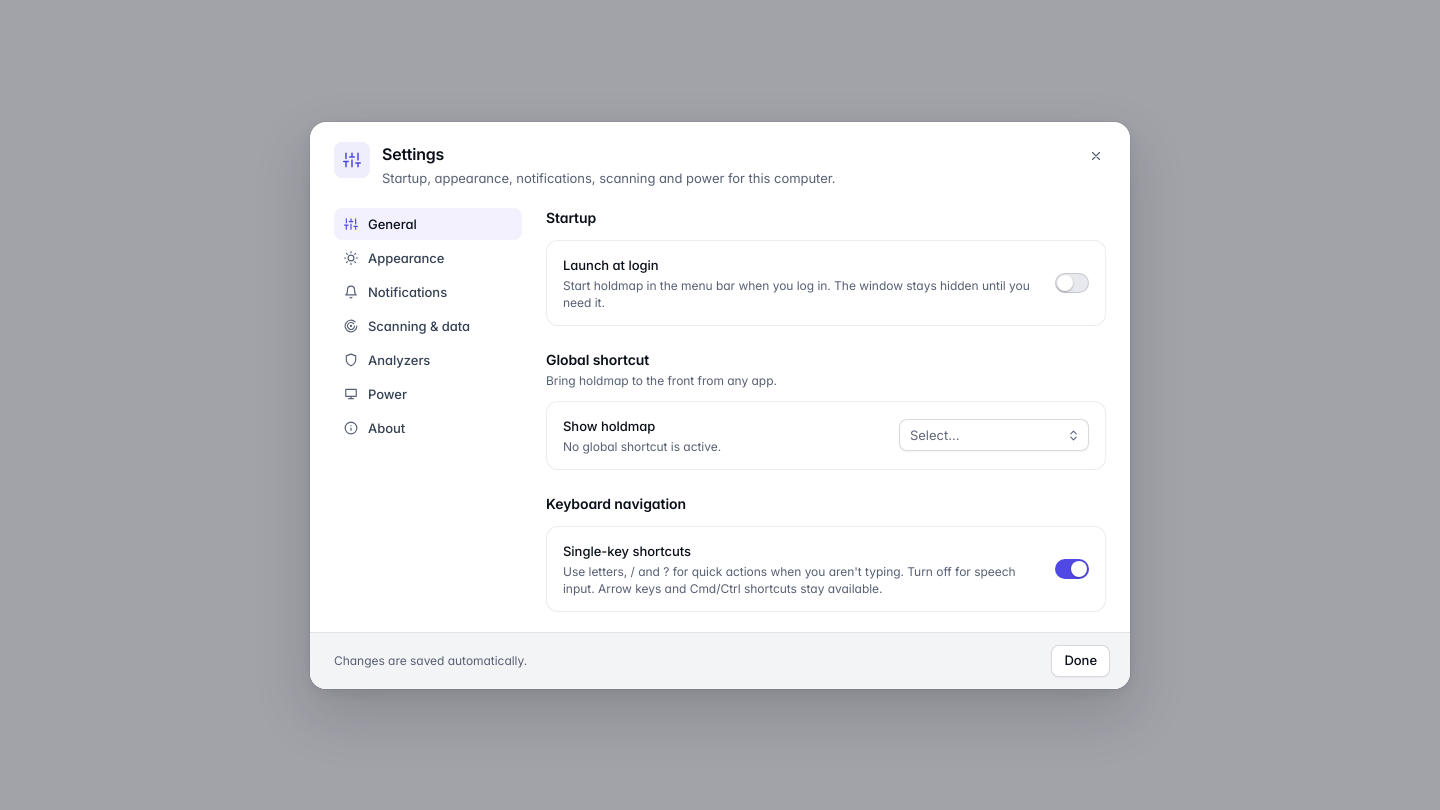
Scenario: native write failures › restores the actual launch-at-login value after a rejected write
Click the 1st switch named "Launch at login" at (1072, 282), box [1055,272,1089,292]
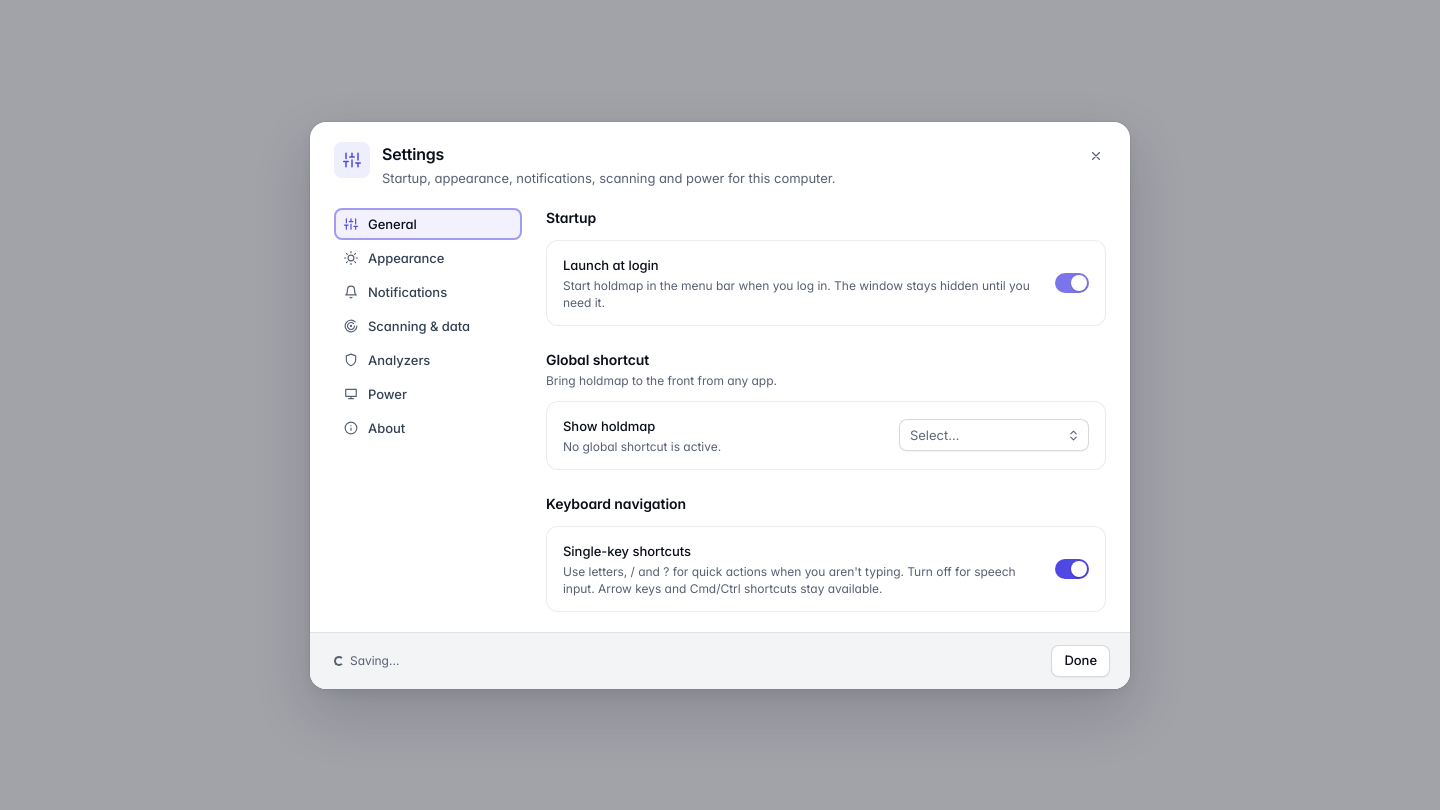
Result: the 1st switch named "Launch at login" is disabled
Click the 1st switch named "Launch at login" at (1072, 282), box [1055,272,1089,292]
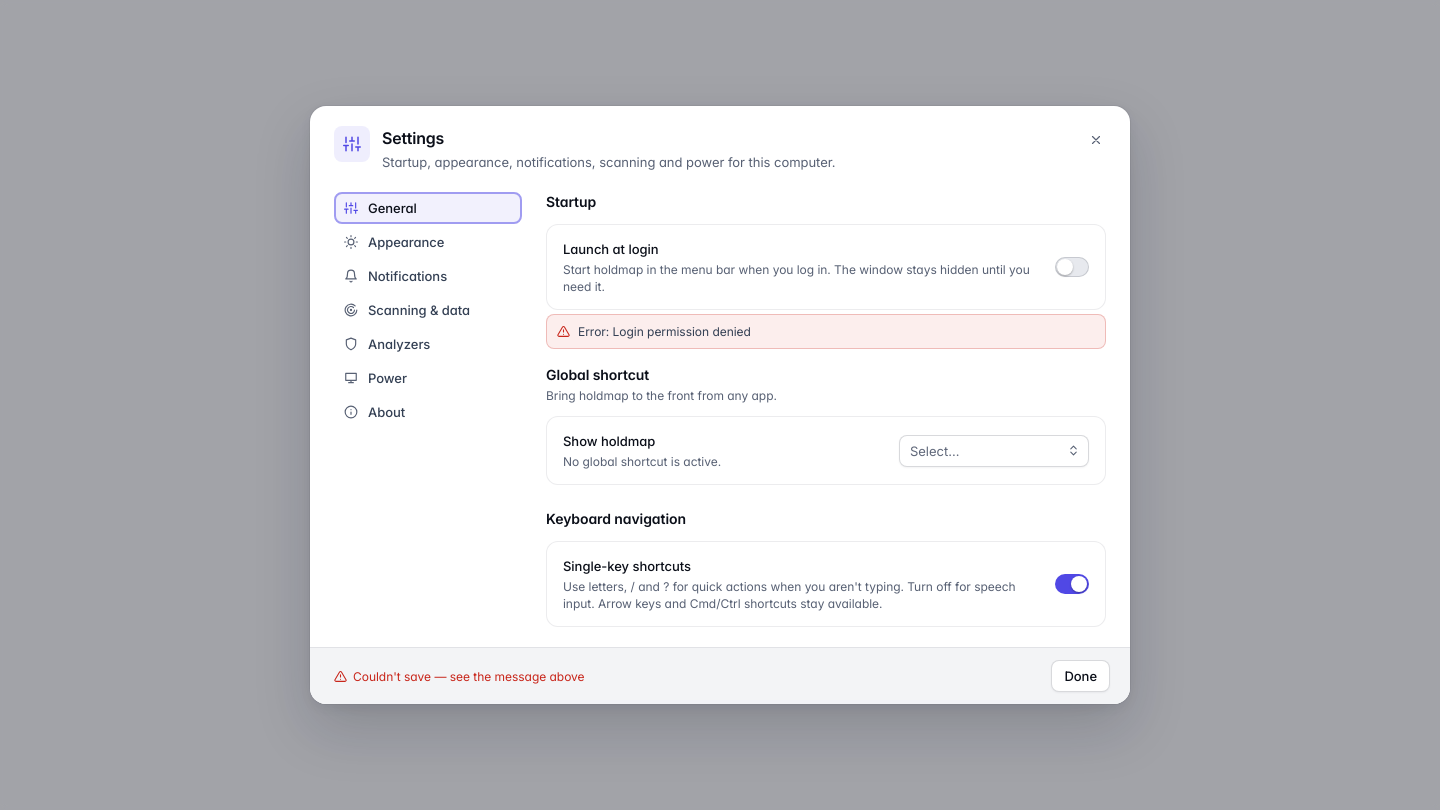
Result: the message shows "Login permission denied" at [578,324,751,339]
